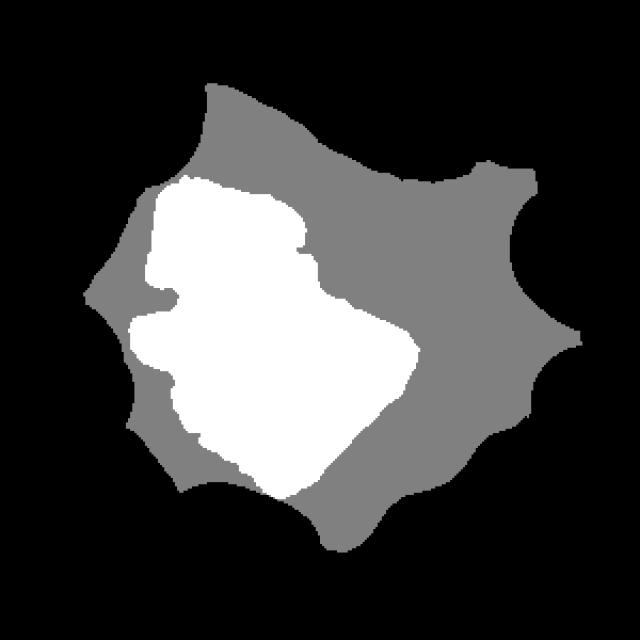WBC: (83, 62, 608, 559)
